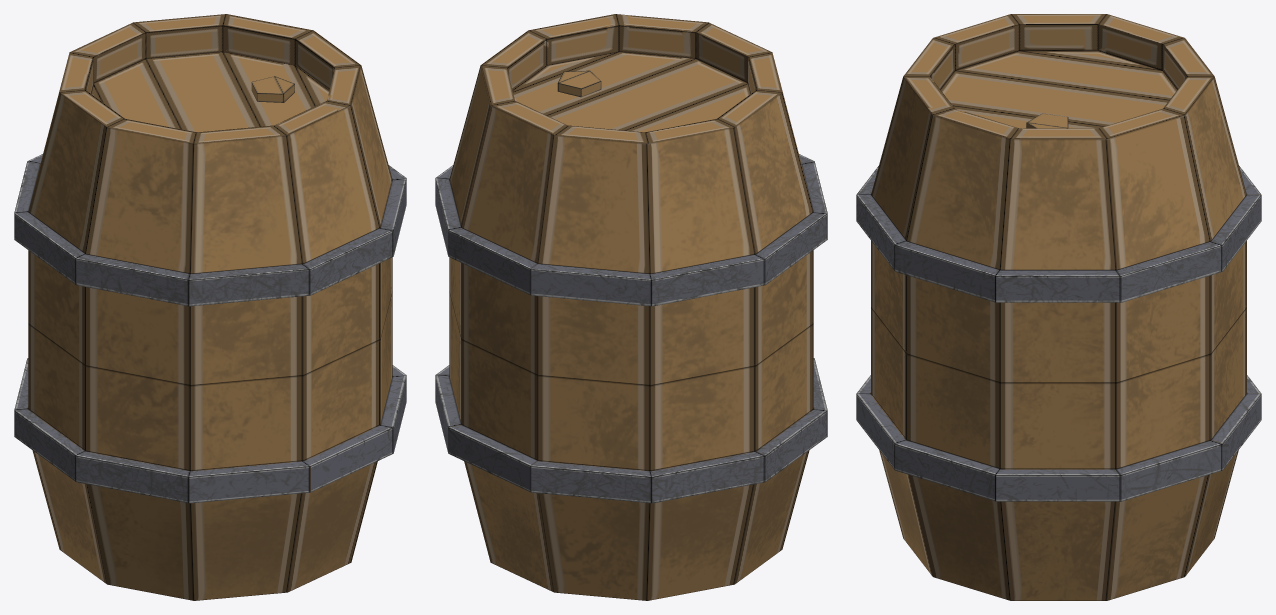
File: Barrel.fbx
3 renders of one model, left to right at view 1: azimuth 30°, elevation 25°; view 2: azimuth 150°, elevation 25°; view 3: azimuth 270°, elevation 25°, orthographic.
Visible parts, largest first — view 1: Barrel; view 2: Barrel; view 3: Barrel.
Boxes of the visible parts, <box> form: Barrel: <box>14,14,406,600</box>; Barrel: <box>435,14,827,600</box>; Barrel: <box>856,14,1261,600</box>.
Size of the model in its own units: 55.65 by 73.58 by 58.51.
